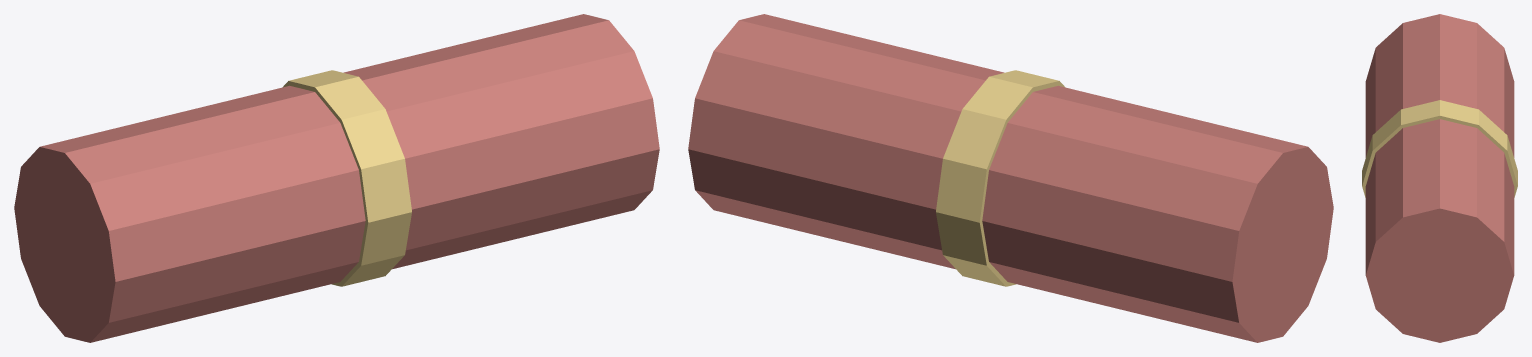
File: seccade_rolled.glb
The picture shows the model from 3 angles, left to right: view 1: azimuth 30°, elevation 25°; view 2: azimuth 150°, elevation 25°; view 3: azimuth 270°, elevation 25°; orthographic projection. The views are drawn at different scales.
Parts seen in each view (by area): view 1: seccade_rolled; view 2: seccade_rolled; view 3: seccade_rolled.
Boxes of the visible parts, x1,y1,x2,y2 form: seccade_rolled: (14,14,659,342); seccade_rolled: (688,14,1333,342); seccade_rolled: (1362,14,1517,342).
Bounding box in the file's own units: 0.62 × 0.21 × 0.21.
